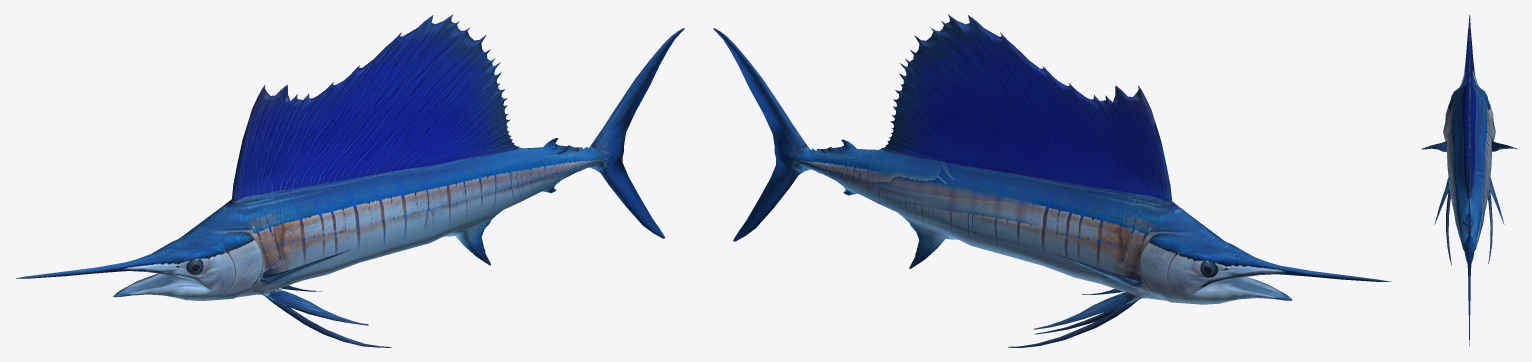
File: sailfish.glb
3 views of the same model, side by side, from view 1: azimuth 30°, elevation 25°; view 2: azimuth 150°, elevation 25°; view 3: azimuth 270°, elevation 25° (orthographic). The views are drawn at different scales.
Parts seen in each view (by area): view 1: tripo_node_dc375e89-2a59-4483-b507-41be702e0b6c; view 2: tripo_node_dc375e89-2a59-4483-b507-41be702e0b6c; view 3: tripo_node_dc375e89-2a59-4483-b507-41be702e0b6c.
Boxes of the visible parts, x1,y1,x2,y2 form: tripo_node_dc375e89-2a59-4483-b507-41be702e0b6c: (16, 14, 684, 347); tripo_node_dc375e89-2a59-4483-b507-41be702e0b6c: (713, 14, 1391, 347); tripo_node_dc375e89-2a59-4483-b507-41be702e0b6c: (1421, 15, 1517, 346).
Bounding box in the file's own units: 0.9995 × 0.4429 × 0.1675.
Materials: 1 (1 with a texture image).
